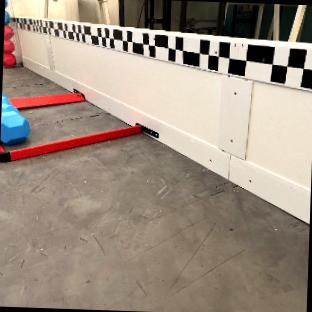Parking-R: (0, 124, 141, 161)
V5_BLUE: (0, 94, 30, 144)
V5_RED: (3, 25, 15, 67)
